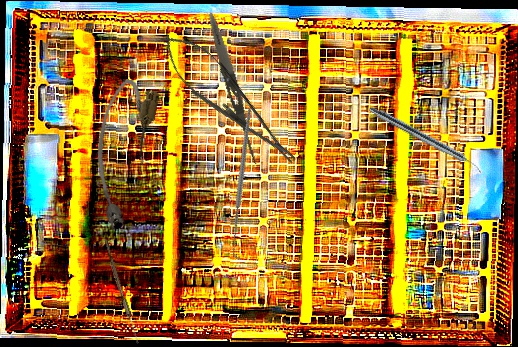Cannula: (80, 75, 162, 234)
Dressing Forceps: (204, 11, 263, 168)
Handpiece: (366, 104, 486, 175)
Hook Surgical: (171, 107, 317, 261)
Needle Holder: (148, 21, 309, 177)
Surgical Spoon: (102, 238, 141, 345)
